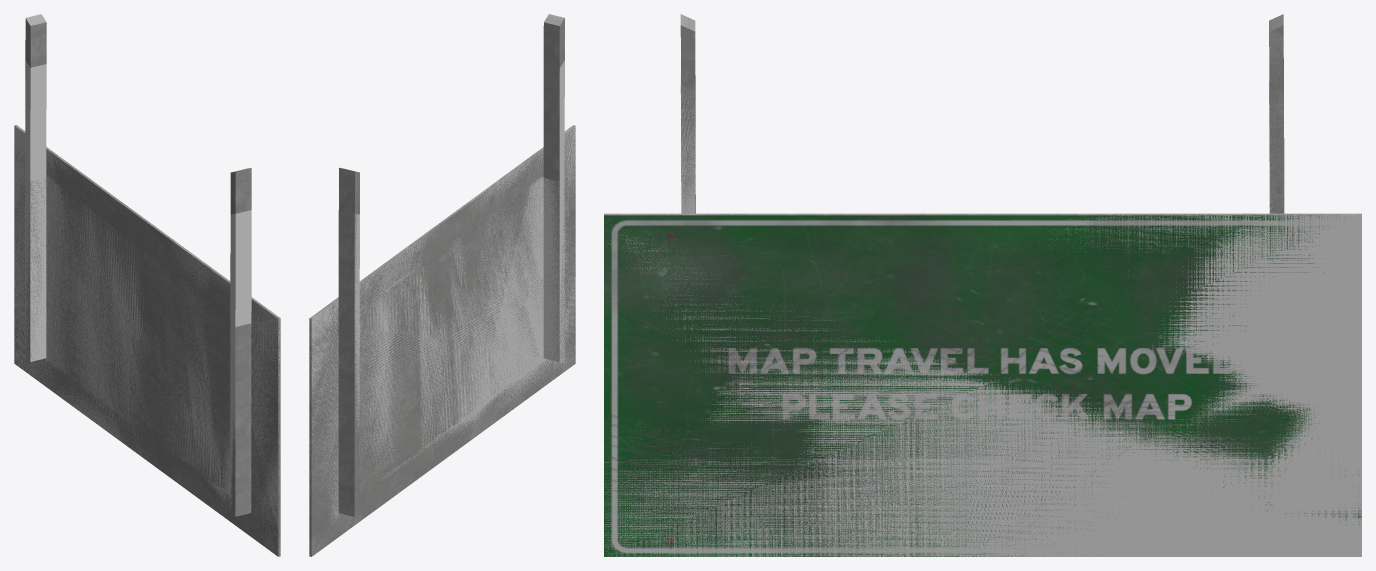
Rendered from tunnelS2.dae.
The picture shows the model from 3 angles, left to right: view 1: azimuth 30°, elevation 25°; view 2: azimuth 150°, elevation 25°; view 3: azimuth 270°, elevation 25°; orthographic projection. The views are drawn at different scales.
Parts seen in each view (by area): view 1: rlssign2_a500, Colmesh-1, rlssign2_a250, rlssign2_a50; view 2: rlssign2_a500, Colmesh-1, rlssign2_a50, rlssign2_a250; view 3: Colmesh-1, rlssign2_a500, rlssign2_a50, rlssign2_a250.
Boxes of the visible parts, bbox=[...] form: rlssign2_a500: bbox=[14, 14, 280, 556]; Colmesh-1: bbox=[14, 61, 280, 548]; rlssign2_a250: bbox=[14, 15, 280, 556]; rlssign2_a50: bbox=[14, 125, 280, 555]; rlssign2_a500: bbox=[309, 14, 575, 556]; Colmesh-1: bbox=[309, 60, 575, 523]; rlssign2_a50: bbox=[309, 128, 575, 555]; rlssign2_a250: bbox=[309, 15, 575, 556]; Colmesh-1: bbox=[604, 74, 1361, 556]; rlssign2_a500: bbox=[604, 14, 1361, 556]; rlssign2_a50: bbox=[604, 213, 1361, 556]; rlssign2_a250: bbox=[604, 15, 1361, 556].
Size of the model in its own units: 0.1183 by 2.96 by 2.28.
Materials: 3 (2 with a texture image).
